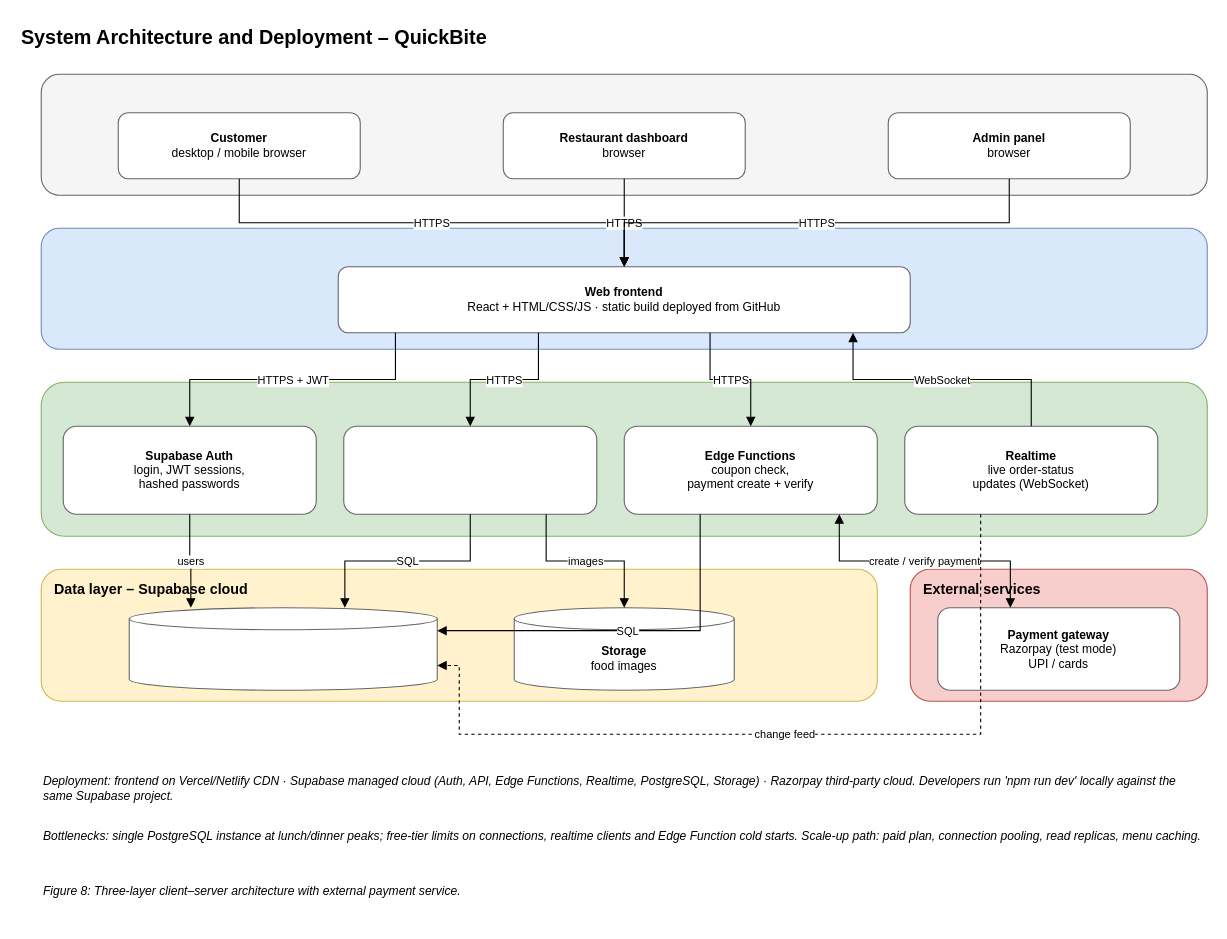
The diagram is 1227 pixels wide and 939 high, and some of its shapes have lost their labels. Here are the shapes that lost their labels. From the top down, the box of each, then its label:
(40, 73, 1207, 195): Clients (browsers)
(40, 227, 1207, 349): Presentation layer – hosted on Vercel / Netlify (CDN, HTTPS)
(343, 425, 597, 514): Auto REST API (PostgREST) CRUD + Row Level Security
(40, 381, 1207, 536): Application layer – Supabase cloud (Mumbai region)
(128, 607, 437, 690): PostgreSQL users, restaurants, menu_items, cart, coupons, orders, payments
